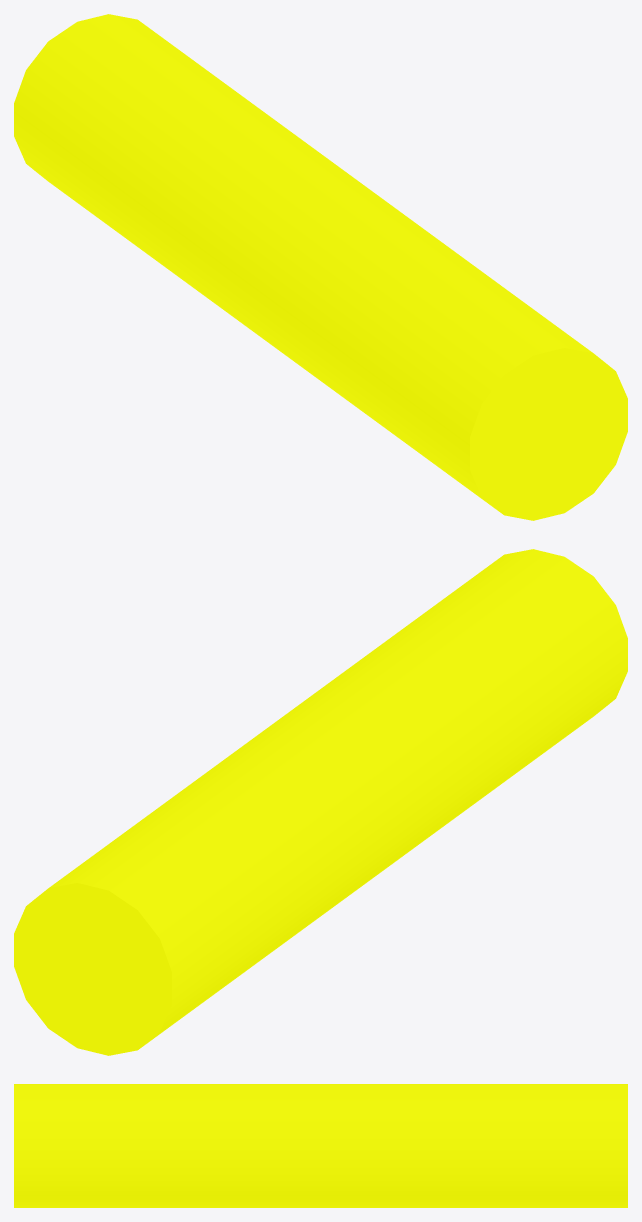
File: Laser Proj.glb
3 renders of one model, top to bottom at view 1: azimuth 30°, elevation 25°; view 2: azimuth 150°, elevation 25°; view 3: azimuth 270°, elevation 25°, orthographic. The views are drawn at different scales.
Visible parts, largest first — view 1: Origin Laser; view 2: Origin Laser; view 3: Origin Laser.
Boxes of the visible parts, x1,y1,x2,y2 form: Origin Laser: (14, 14, 627, 520); Origin Laser: (14, 549, 627, 1055); Origin Laser: (14, 1084, 627, 1207).
Bounding box in the file's own units: 0.7837 × 0.7837 × 3.92.
